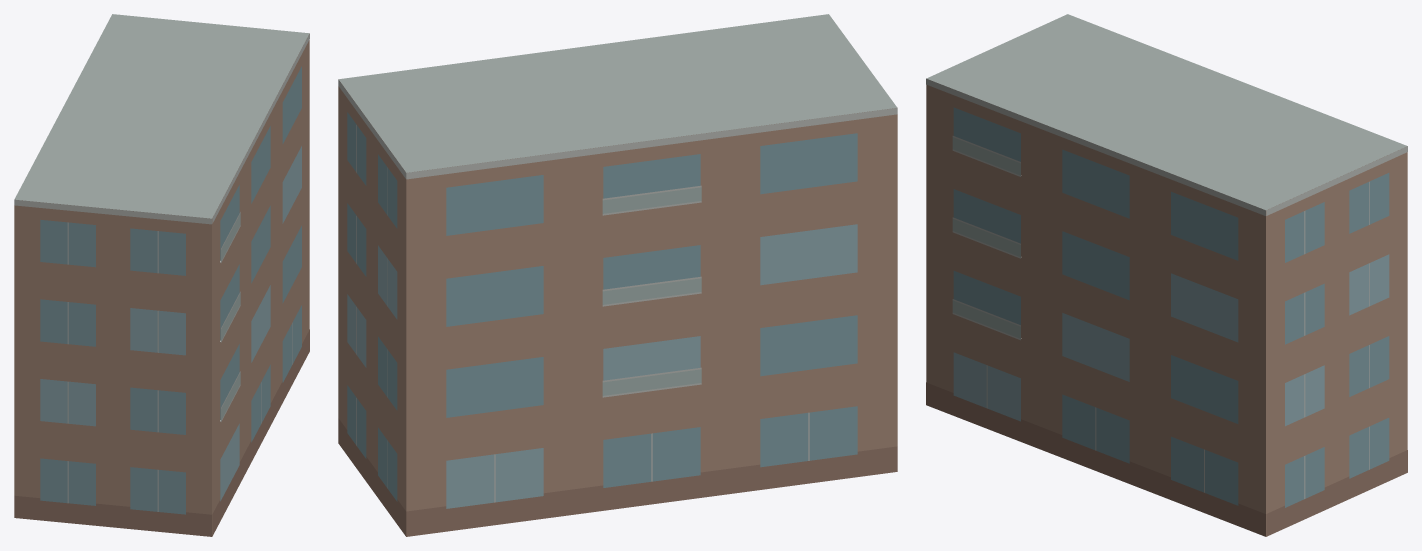
Rendered from survey-upis-32538702.glb.
The picture shows the model from 3 angles, left to right: view 1: azimuth 30°, elevation 25°; view 2: azimuth 150°, elevation 25°; view 3: azimuth 270°, elevation 25°; orthographic projection. The views are drawn at different scales.
Parts seen in each view (by area): view 1: survey-upis-32538702.tmp; view 2: survey-upis-32538702.tmp; view 3: survey-upis-32538702.tmp.
Part boxes in pixels (x1,y1,x2,y2): survey-upis-32538702.tmp: [14, 14, 309, 536]; survey-upis-32538702.tmp: [338, 14, 897, 536]; survey-upis-32538702.tmp: [926, 14, 1407, 536].
Bounding box in the file's own units: 17.29 × 13.4 × 17.92.
